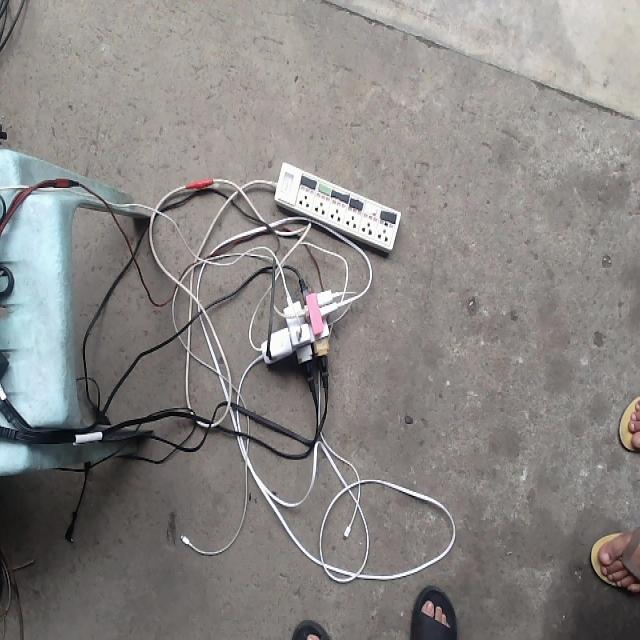-: (257, 276, 339, 375)
